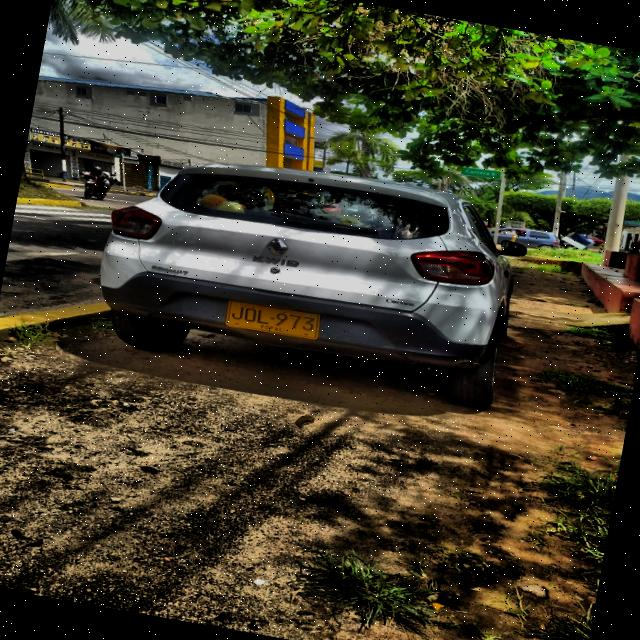plate: (225, 300, 319, 339)
